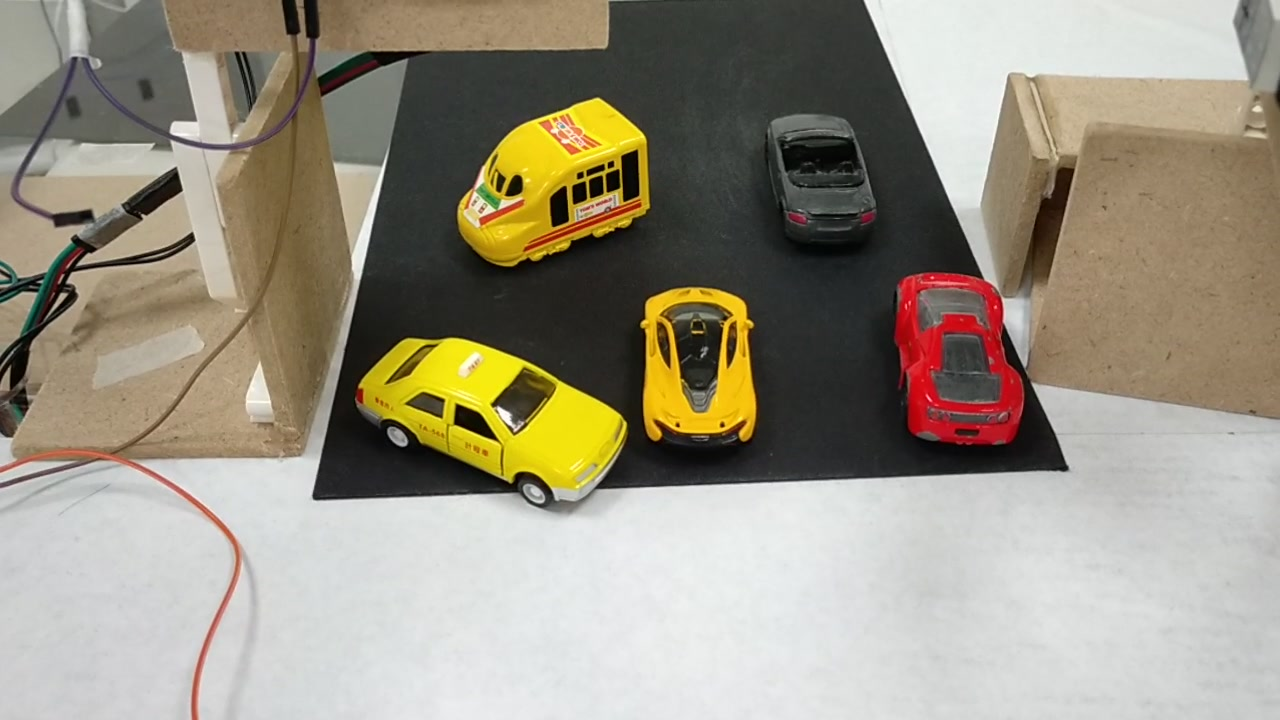car: (354, 337, 628, 518), (889, 268, 1026, 455), (635, 297, 754, 447), (761, 115, 874, 243)
